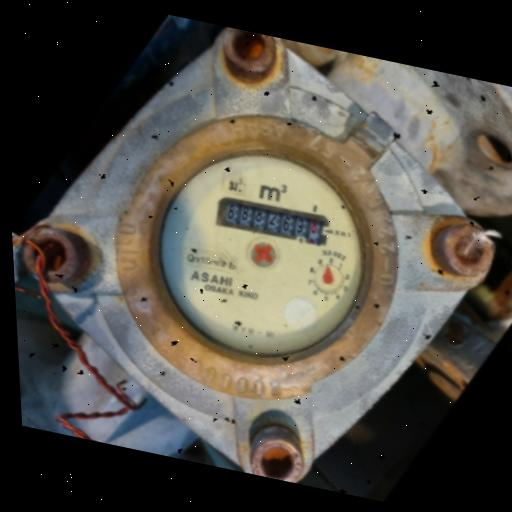2: (265, 209, 280, 231)
6: (279, 212, 295, 234)
8: (305, 218, 321, 244), (223, 201, 240, 223), (238, 204, 253, 226), (252, 207, 266, 228)
9: (293, 214, 308, 236)
border_water_meter_number: (213, 193, 333, 248)
